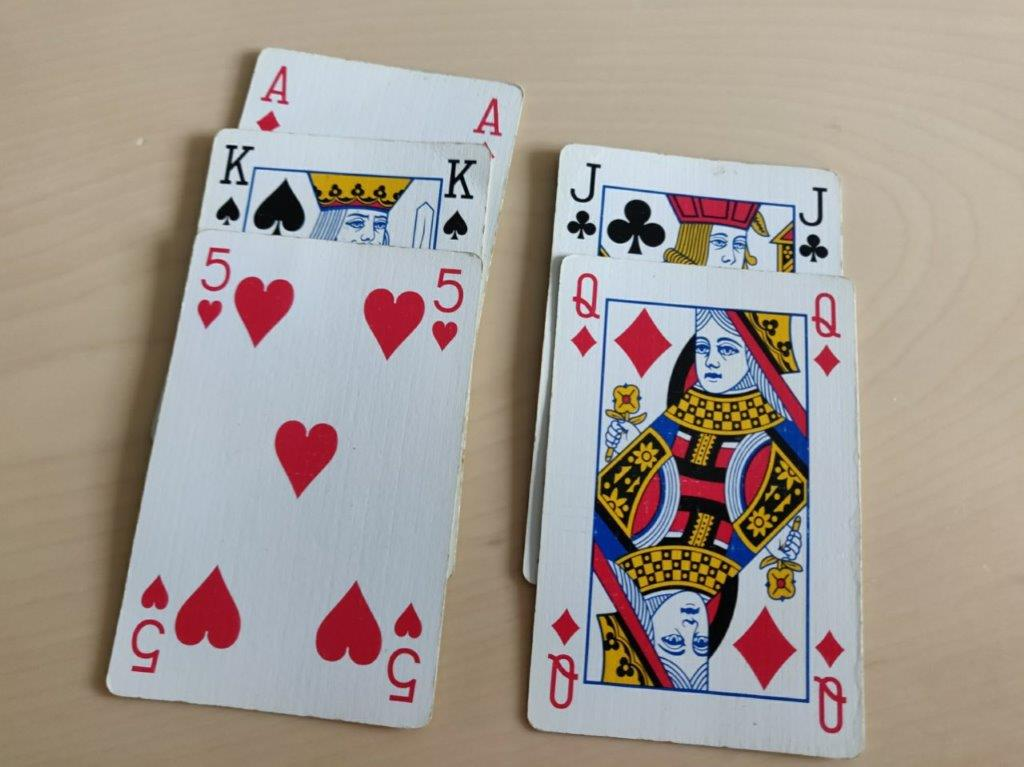5H: (189, 242, 236, 331), (422, 266, 469, 355)
AD: (249, 56, 297, 135)
JC: (567, 153, 604, 247), (795, 177, 832, 271)
KS: (208, 138, 256, 231), (436, 151, 484, 244)
QD: (565, 267, 605, 364), (806, 286, 846, 383)
